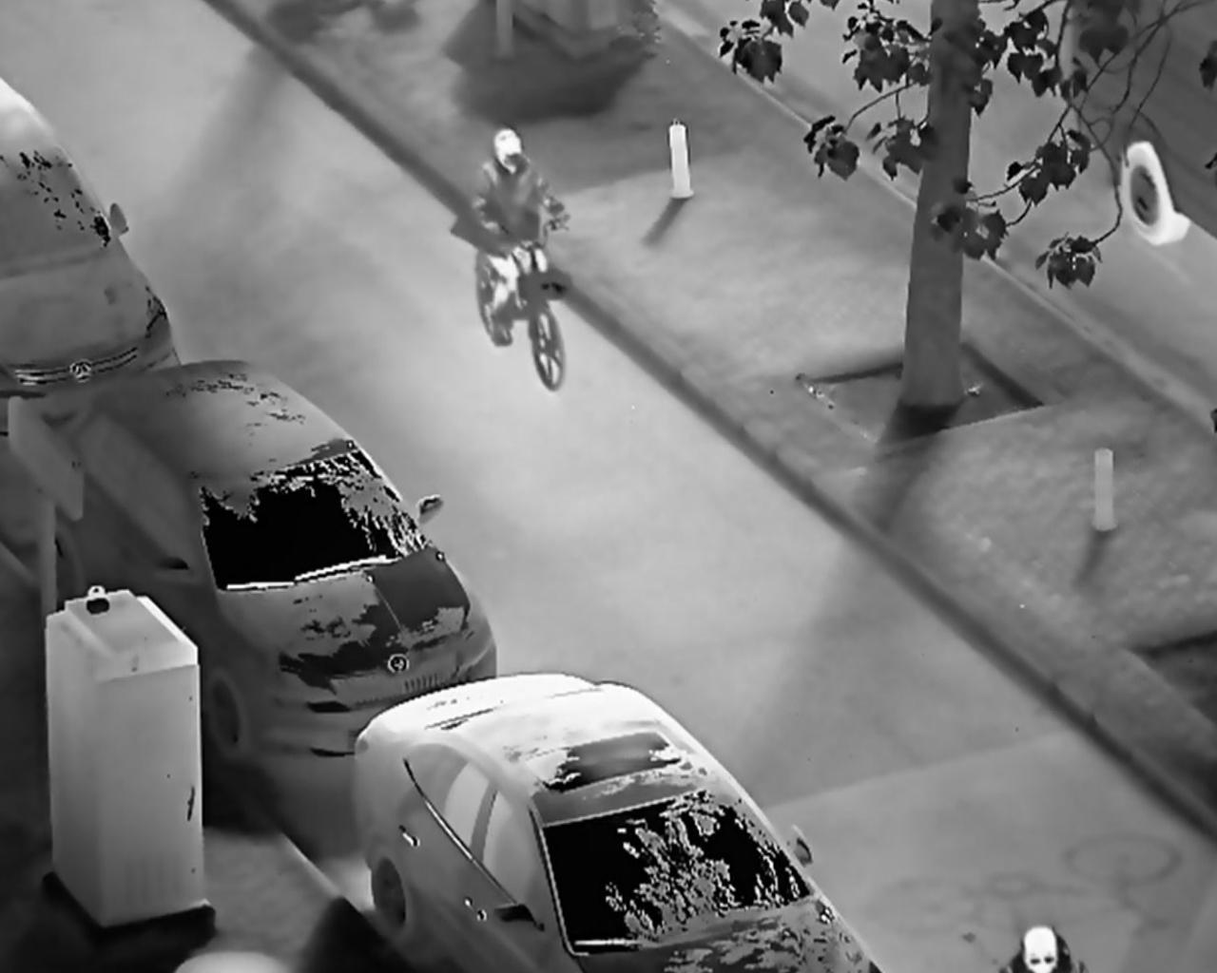person: (464, 122, 574, 342)
